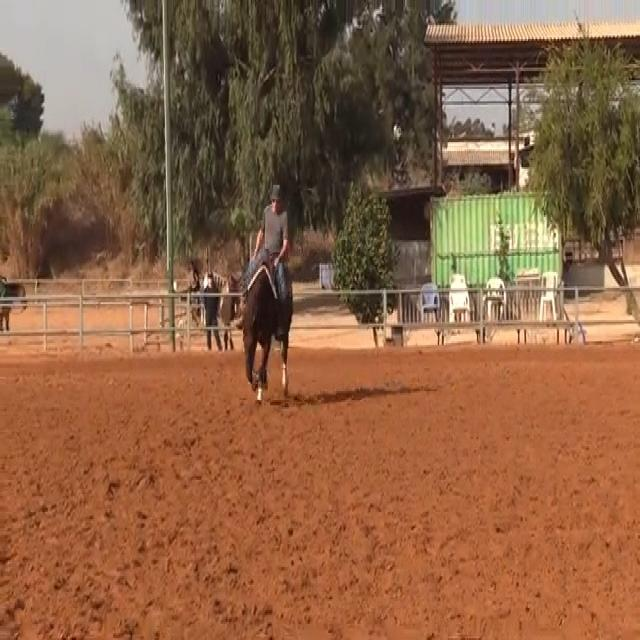horse: (236, 254, 295, 406)
